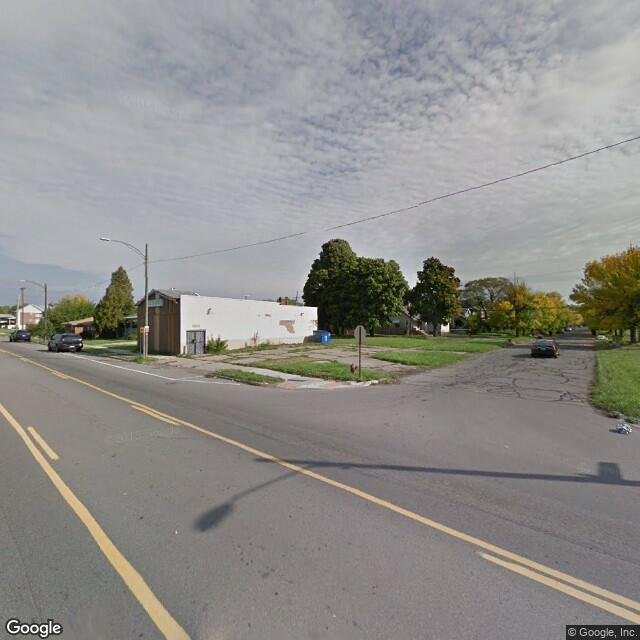litter: (615, 419, 633, 437), (263, 381, 270, 387)
